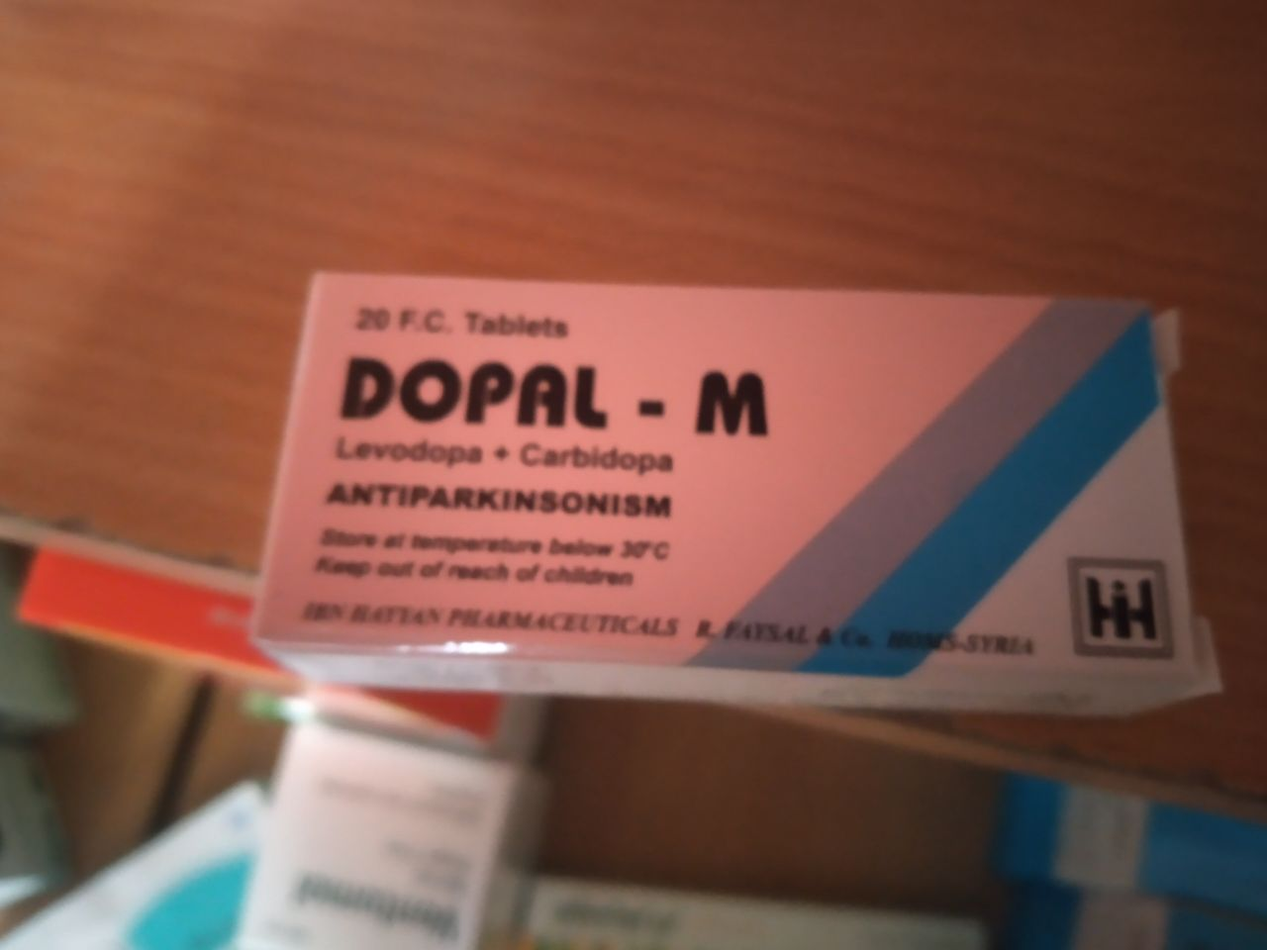Medicine: (257, 255, 1210, 722)
